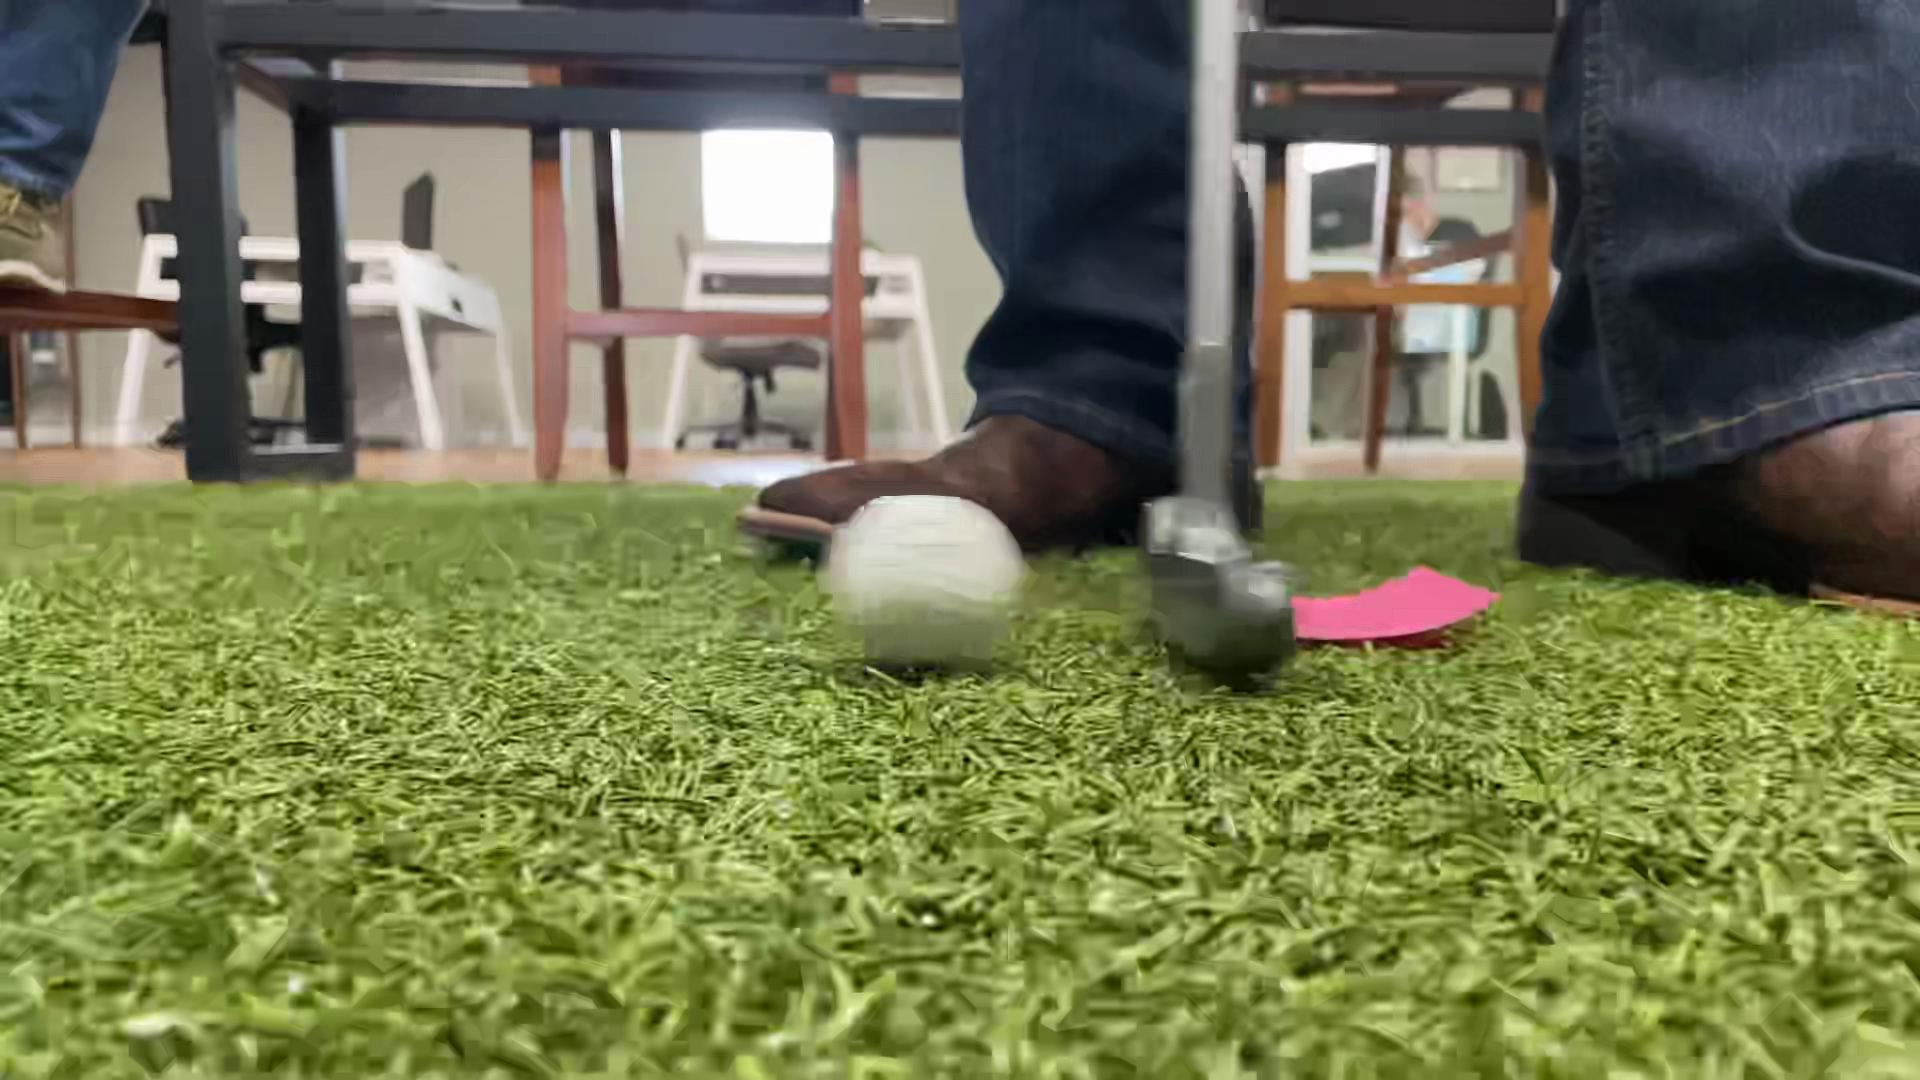golfball: (828, 494, 1029, 663)
